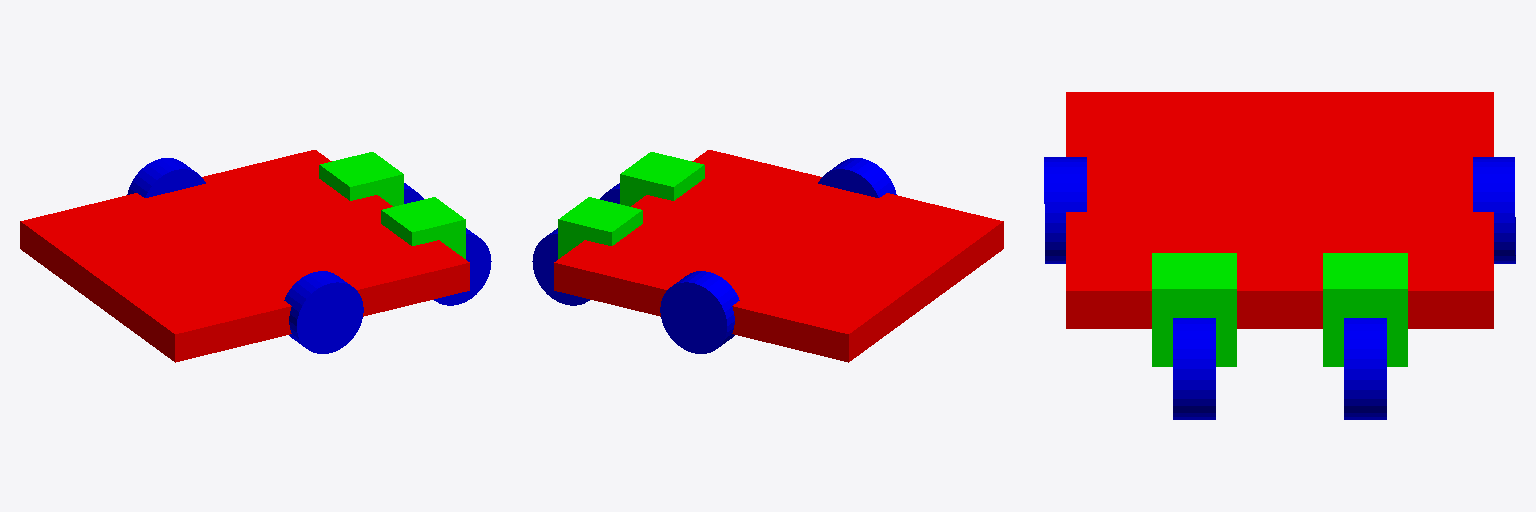
robot.urdf — explorer:
<?xml version="1.0" ?>
    <robot name="explorer">
        <link name="world"/> 

        <link name="base">
            <visual>
                <geometry>
                    <box size="0.55 0.5 0.05"/>
                </geometry> 

                <material name = "red">
                    <color rgba="1 0 0 1"/>
                </material>
            </visual>

            <inertial>
                <origin xyz="0.0 0.0 0.0" rpy="0.0 0.0 0.0"/>
                <mass value="1"/>
                <inertia ixx="0.01" ixy="0.0" ixz="0.0" iyy="0.01" iyz="0.0" izz="0.01"/>
            </inertial>

            <collision>
               <geometry>
                    <box size="0.55 0.5 0.1"/>
               </geometry> 
            </collision>

        </link>

        <joint name="base_joint" type="fixed">
            <parent link="world"/>
            <child link="base"/>
            <origin xyz="0.0 0.0 0.0" rpy="0.0 0.0 0.0"/>
        </joint>

        <link name="front_caster_of_the_right_wheel">
            <visual>
                <geometry>
                    <box size = "0.1 0.1 0.1"/>
                </geometry> 

                <material name = "Green">
                    <color rgba="0 1 0 1"/>
                </material>
            </visual>

            <inertial>
                <origin xyz="0.0 0.0 0.0" rpy="0.0 0.0 0.0"/>
                <mass value="0"/>
                <inertia ixx="0.00" ixy="0.0" ixz="0.0" iyy="0.00" iyz="0.0" izz="0.00"/>
            </inertial>

            <collision>
               <geometry>
                    <box size="0.1 0.1 0.1"/>
               </geometry> 
            </collision>

        </link>

        <joint name="front_caster_of_the_right_wheel_joint" type="continuous">
            <axis xyz="0.0 0.0 1"/>
            <parent link="base"/>
            <child link="front_caster_of_the_right_wheel"/>
            <origin xyz="0.275 -0.1 0.0" rpy="0.0 0.0 0.0"/>
        </joint> 

        <link name="front_right_wheel">
            <visual>
                <geometry>
                    <cylinder radius="0.0625" length="0.05"/>
                </geometry> 

                <material name = "Blue">
                    <color rgba="0 0 1 1"/>
                </material>
            </visual>

            <inertial>
                <origin xyz="0.0 0.0 0.0" rpy="0.0 0.0 0.0"/>
                <mass value="0"/>
                <inertia ixx="0.00" ixy="0.0" ixz="0.0" iyy="0.00" iyz="0.0" izz="0.00"/>
            </inertial>

            <collision>
               <geometry>
                    <cylinder radius="0.0625" length="0.05"/>
               </geometry> 
            </collision>

        </link>

        <joint name="front_right_wheel_joint" type="continuous">
            <axis xyz="0.0 0.0 1"/>
            <parent link="front_caster_of_the_right_wheel"/>
            <child link="front_right_wheel"/>
            <origin xyz="0.05 0.0 -0.05" rpy="-1.57 0.0 0.0"/>
        </joint> 

        <link name="front_caster_of_the_left_wheel">
            <visual>
                <geometry>
                    <box size = "0.1 0.1 0.1"/>
                </geometry> 

                <material name = "Green">
                    <color rgba="0 1 0 1"/>
                </material>
            </visual>

            <inertial>
                <origin xyz="0.0 0.0 0.0" rpy="0.0 0.0 0.0"/>
                <mass value="0"/>
                <inertia ixx="0.00" ixy="0.0" ixz="0.0" iyy="0.00" iyz="0.0" izz="0.00"/>
            </inertial>

            <collision>
               <geometry>
                    <box size="0.1 0.1 0.1"/>
               </geometry> 
            </collision>

        </link>

        <joint name="front_caster_of_the_left_wheel_joint" type="continuous">
            <axis xyz="0.0 0.0 1"/>
            <parent link="base"/>
            <child link="front_caster_of_the_left_wheel"/>
            <origin xyz="0.275 0.1 0.0" rpy="0.0 0.0 0.0"/>
        </joint> 

        <link name="front_left_wheel">
            <visual>
                <geometry>
                    <cylinder radius="0.0625" length="0.05"/>
                </geometry> 

                <material name = "Blue">
                    <color rgba="0 0 1 1"/>
                </material>
            </visual>

            <inertial>
                <origin xyz="0.0 0.0 0.0" rpy="0.0 0.0 0.0"/>
                <mass value="0"/>
                <inertia ixx="0.00" ixy="0.0" ixz="0.0" iyy="0.00" iyz="0.0" izz="0.00"/>
            </inertial>

            <collision>
               <geometry>
                    <cylinder radius="0.0625" length="0.05"/>
               </geometry> 
            </collision>

        </link>

        <joint name="front_left_wheel_joint" type="continuous">
            <axis xyz="0.0 0.0 1"/>
            <parent link="front_caster_of_the_left_wheel"/>
            <child link="front_left_wheel"/>
            <origin xyz="0.05 0.0 -0.05" rpy="-1.57 0.0 0.0"/>
        </joint> 

        <link name="right_wheel">
            <visual>
                <geometry>
                    <cylinder radius="0.0625" length="0.05"/>                
                </geometry> 

                <material name = "Blue">
                    <color rgba="0 0 1 1"/>
                </material>
            </visual>

            <inertial>
                <origin xyz="0.0 0.0 0.0" rpy="0.0 0.0 0.0"/>
                <mass value="0"/>
                <inertia ixx="0.00" ixy="0.0" ixz="0.0" iyy="0.00" iyz="0.0" izz="0.00"/>
            </inertial>

            <collision>
                <geometry>
                    <cylinder radius="0.0625" length="0.05"/>               
                </geometry> 
            </collision>

        </link>

        <joint name="right_wheel_joint" type="continuous">
            <axis xyz="0.0 0.0 1"/>
            <parent link="base"/>
            <child link="right_wheel"/>
            <origin xyz="0 -0.25 0" rpy="-1.57 0.0 0.0"/>
        </joint> 

        <link name="left_wheel">
            <visual>
                <geometry>
                    <cylinder radius="0.0625" length="0.05"/>
                </geometry> 

                <material name = "Blue">
                    <color rgba="0 0 1 1"/>
                </material>
            </visual>

            <inertial>
                <origin xyz="0.0 0.0 0.0" rpy="0.0 0.0 0.0"/>
                <mass value="0"/>
                <inertia ixx="0.00" ixy="0.0" ixz="0.0" iyy="0.00" iyz="0.0" izz="0.00"/>
            </inertial>

            <collision>
               <geometry>
                    <cylinder radius="0.0625" length="0.05"/>
               </geometry> 
            </collision>

        </link>

        <joint name="left_wheel_joint" type="continuous">
            <axis xyz="0.0 0.0 1"/>
            <parent link="base"/>
            <child link="left_wheel"/>
            <origin xyz="0 0.25 0" rpy="-1.57 0.0 0.0"/>
        </joint> 

    </robot>

--- Facts derived from the render (not from the file) ---
Views: 3 orthographic renders of the robot side by side, from view 1: azimuth 30°, elevation 25°; view 2: azimuth 150°, elevation 25°; view 3: azimuth 270°, elevation 25°.
Robot: explorer — 8 links, 7 joints (6 continuous, 1 fixed); root link world; default pose: all joints at 0.
Links seen in each view (by area): view 1: base, right_wheel, front_caster_of_the_right_wheel, front_caster_of_the_left_wheel, left_wheel, front_right_wheel; view 2: base, left_wheel, front_caster_of_the_left_wheel, front_caster_of_the_right_wheel, right_wheel, front_left_wheel; view 3: base, front_caster_of_the_right_wheel, front_caster_of_the_left_wheel, front_right_wheel, front_left_wheel, right_wheel, left_wheel.
Link boxes in pixels (x1,y1,x2,y2): base: [20, 150, 469, 362]; right_wheel: [284, 271, 363, 353]; front_caster_of_the_right_wheel: [381, 197, 465, 258]; front_caster_of_the_left_wheel: [319, 152, 403, 206]; left_wheel: [127, 158, 205, 197]; front_right_wheel: [434, 228, 491, 305]; base: [554, 150, 1003, 362]; left_wheel: [660, 271, 739, 353]; front_caster_of_the_left_wheel: [558, 197, 642, 258]; front_caster_of_the_right_wheel: [620, 152, 704, 206]; right_wheel: [818, 158, 896, 197]; front_left_wheel: [532, 228, 589, 305]; base: [1066, 92, 1493, 328]; front_caster_of_the_right_wheel: [1152, 253, 1236, 366]; front_caster_of_the_left_wheel: [1323, 253, 1407, 366]; front_right_wheel: [1173, 318, 1215, 419]; front_left_wheel: [1344, 318, 1386, 419]; right_wheel: [1044, 157, 1086, 263]; left_wheel: [1473, 157, 1515, 263].
Size in the robot's own frame: 0.6625 by 0.5501 by 0.175 metres.
Geometry: primitives only (box / cylinder / sphere), no mesh files.
